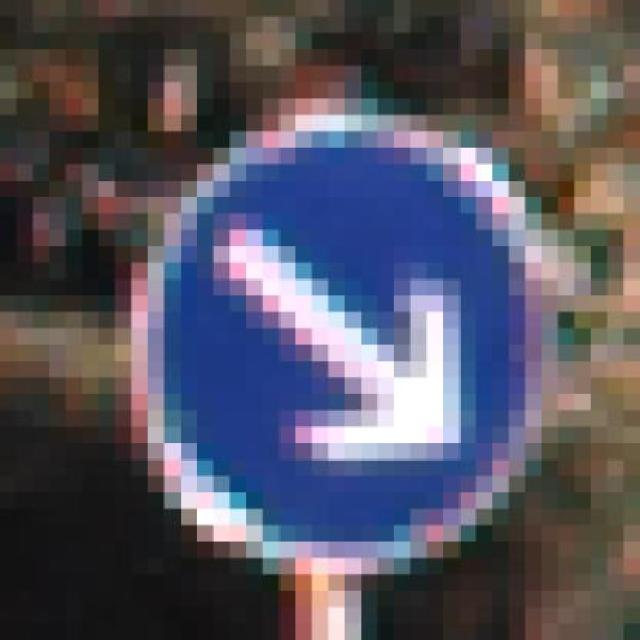Keep-Right: (66, 66, 592, 592)
